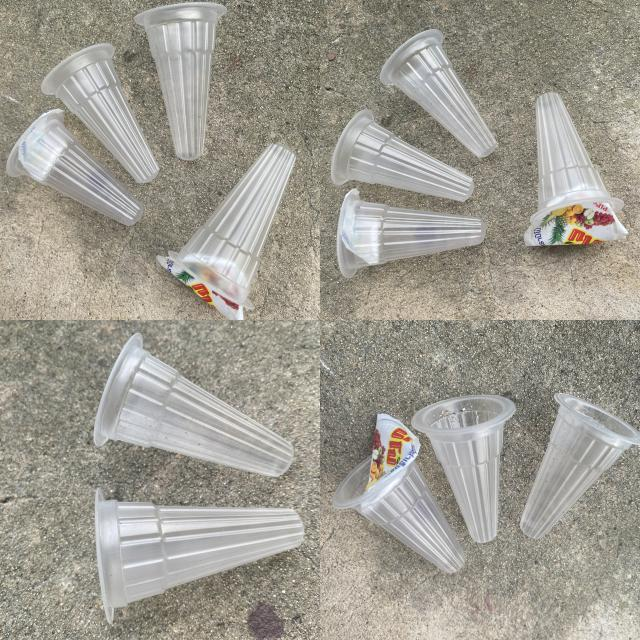Single-Use-Plastic: (94, 332, 292, 476), (95, 489, 304, 622), (156, 144, 295, 319), (332, 414, 465, 572), (520, 394, 640, 539), (41, 44, 159, 182), (524, 92, 628, 246), (6, 110, 142, 225), (411, 395, 515, 542), (380, 29, 496, 157), (135, 2, 228, 159), (331, 110, 474, 201), (338, 189, 485, 275)
